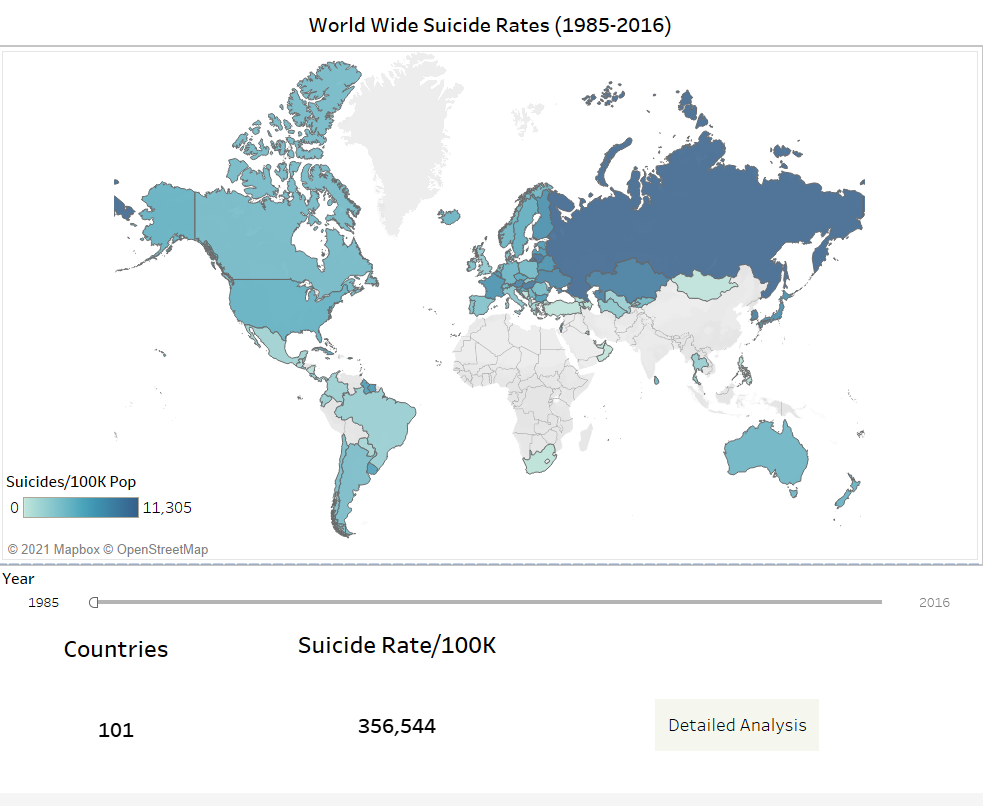

This screenshot's page, from the dashboard's own definition file:
{"tool":"tableau","page":{"name":"Dashboard 1","canvas":[1000,800],"ordinal":0},"visuals":[{"type":"text","box":[8,8,984,46]},{"type":"worksheet","title":"Map","mark":"Automatic","box":[8,54,984,516.8]},{"type":"legend","title":"Map","param":"[federated.0rrtbf01b6g1ng1go5aea0veluox].[sum:suicides/100k pop:qk]","box":[16,478,191,88]},{"type":"filter","title":"Map","param":"[federated.0rrtbf01b6g1ng1go5aea0veluox].[none:year:qk]","box":[8,570.8,984,221.2]},{"type":"worksheet","title":"Suicide Rate/100K","mark":"Automatic","box":[299,631,216,155]},{"type":"worksheet","title":"Countries","mark":"Automatic","box":[9,635,234,155]},{"type":"dashboard-object","box":[665,706,164,52]}]}

Visuals, with their boxes in screenshot pixels (x1, y1, x2, y2), scaled from the page's 1000x800 canvas onto the 983x806 screenshot:
text: detection(8, 8, 975, 54)
"Map" worksheet: detection(8, 54, 975, 575)
"Map" legend: detection(16, 482, 203, 570)
"Map" filter: detection(8, 575, 975, 798)
"Suicide Rate/100K" worksheet: detection(294, 636, 506, 792)
"Countries" worksheet: detection(9, 640, 239, 796)
dashboard-object: detection(654, 711, 815, 764)
